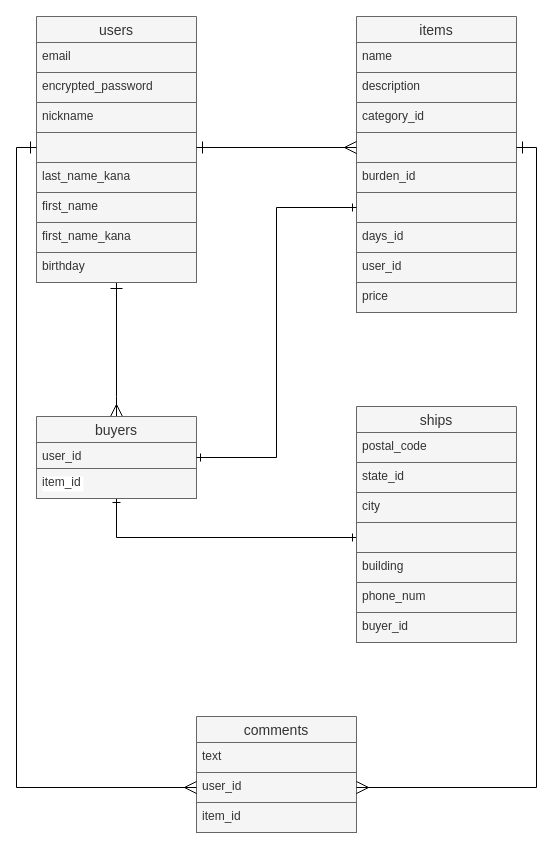
The diagram is 553 pixels wide and 849 high, and some of its shapes have lost their labels. The shapes that lost their labels are listed below. From the top down, each one's centre as x and y in pixels, then its label:
At [116,147]: "last_name".
At [436,147]: "status_id".
At [436,207]: "area_id".
At [436,537]: "address".
